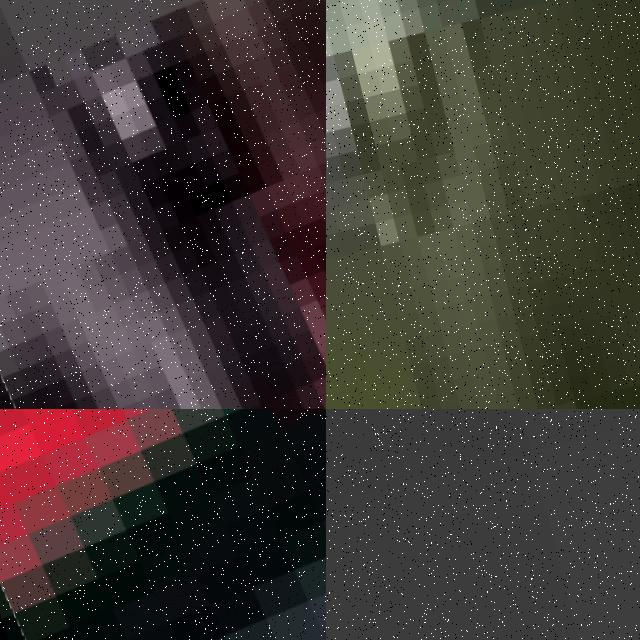drone: (0, 0, 326, 409), (0, 409, 326, 640)
